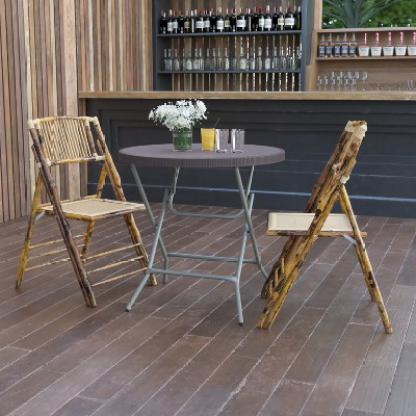table: (114, 136, 289, 328)
